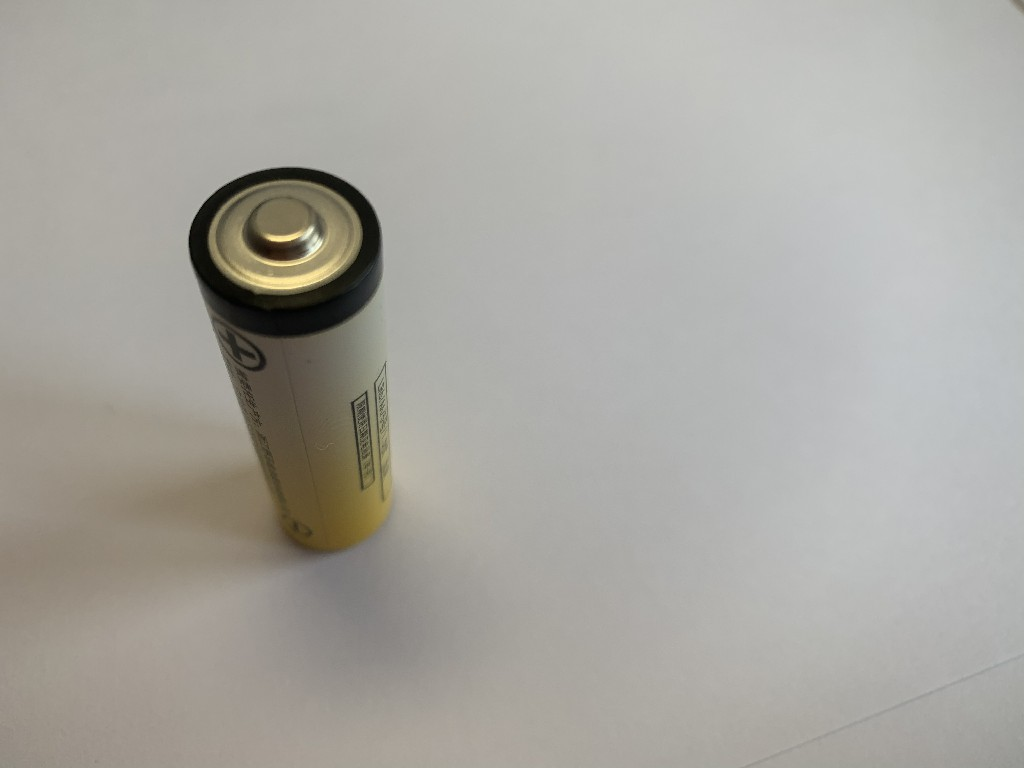charge: (179, 162, 402, 561)
